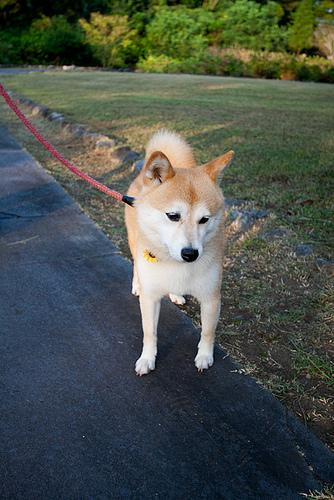dog-shiba_inu: (133, 148, 234, 263)
